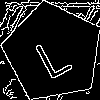L: (28, 27, 75, 81)
